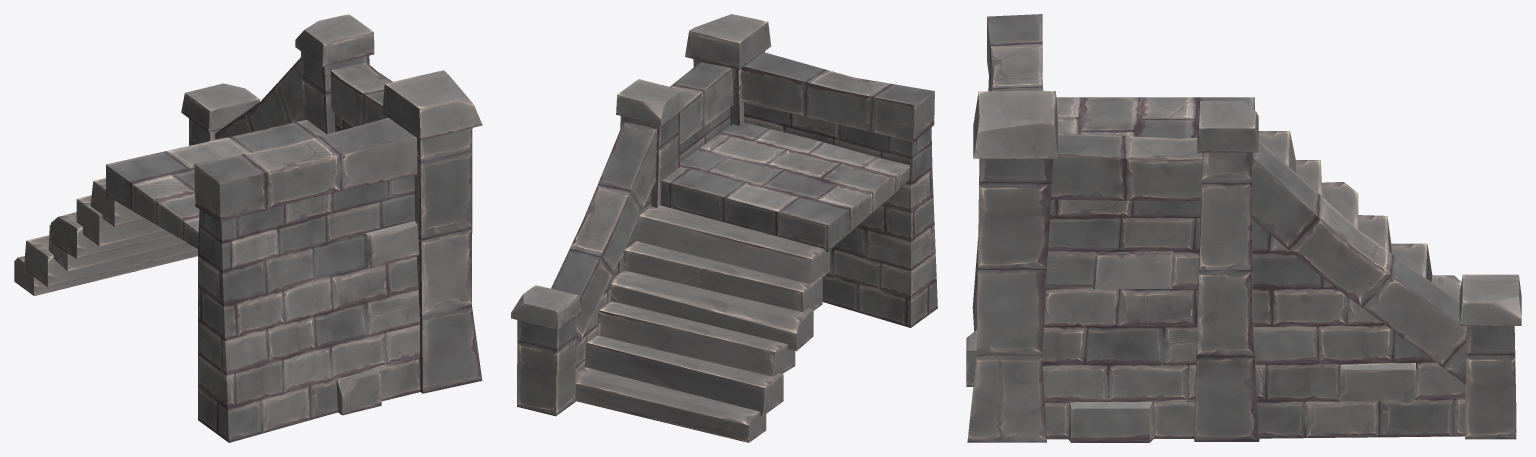
Rendered from SM_BLD_stairs_v04_v1.fbx.
3 views of the same model, side by side, from view 1: azimuth 30°, elevation 25°; view 2: azimuth 150°, elevation 25°; view 3: azimuth 270°, elevation 25° (orthographic). The views are drawn at different scales.
Parts seen in each view (by area): view 1: SM_BLD_stairs_v04_v1; view 2: SM_BLD_stairs_v04_v1; view 3: SM_BLD_stairs_v04_v1.
Boxes of the visible parts, x1,y1,x2,y2 form: SM_BLD_stairs_v04_v1: [14, 14, 482, 442]; SM_BLD_stairs_v04_v1: [511, 14, 937, 442]; SM_BLD_stairs_v04_v1: [966, 14, 1521, 442].
Bounding box in the file's own units: 312 × 326 × 508.
